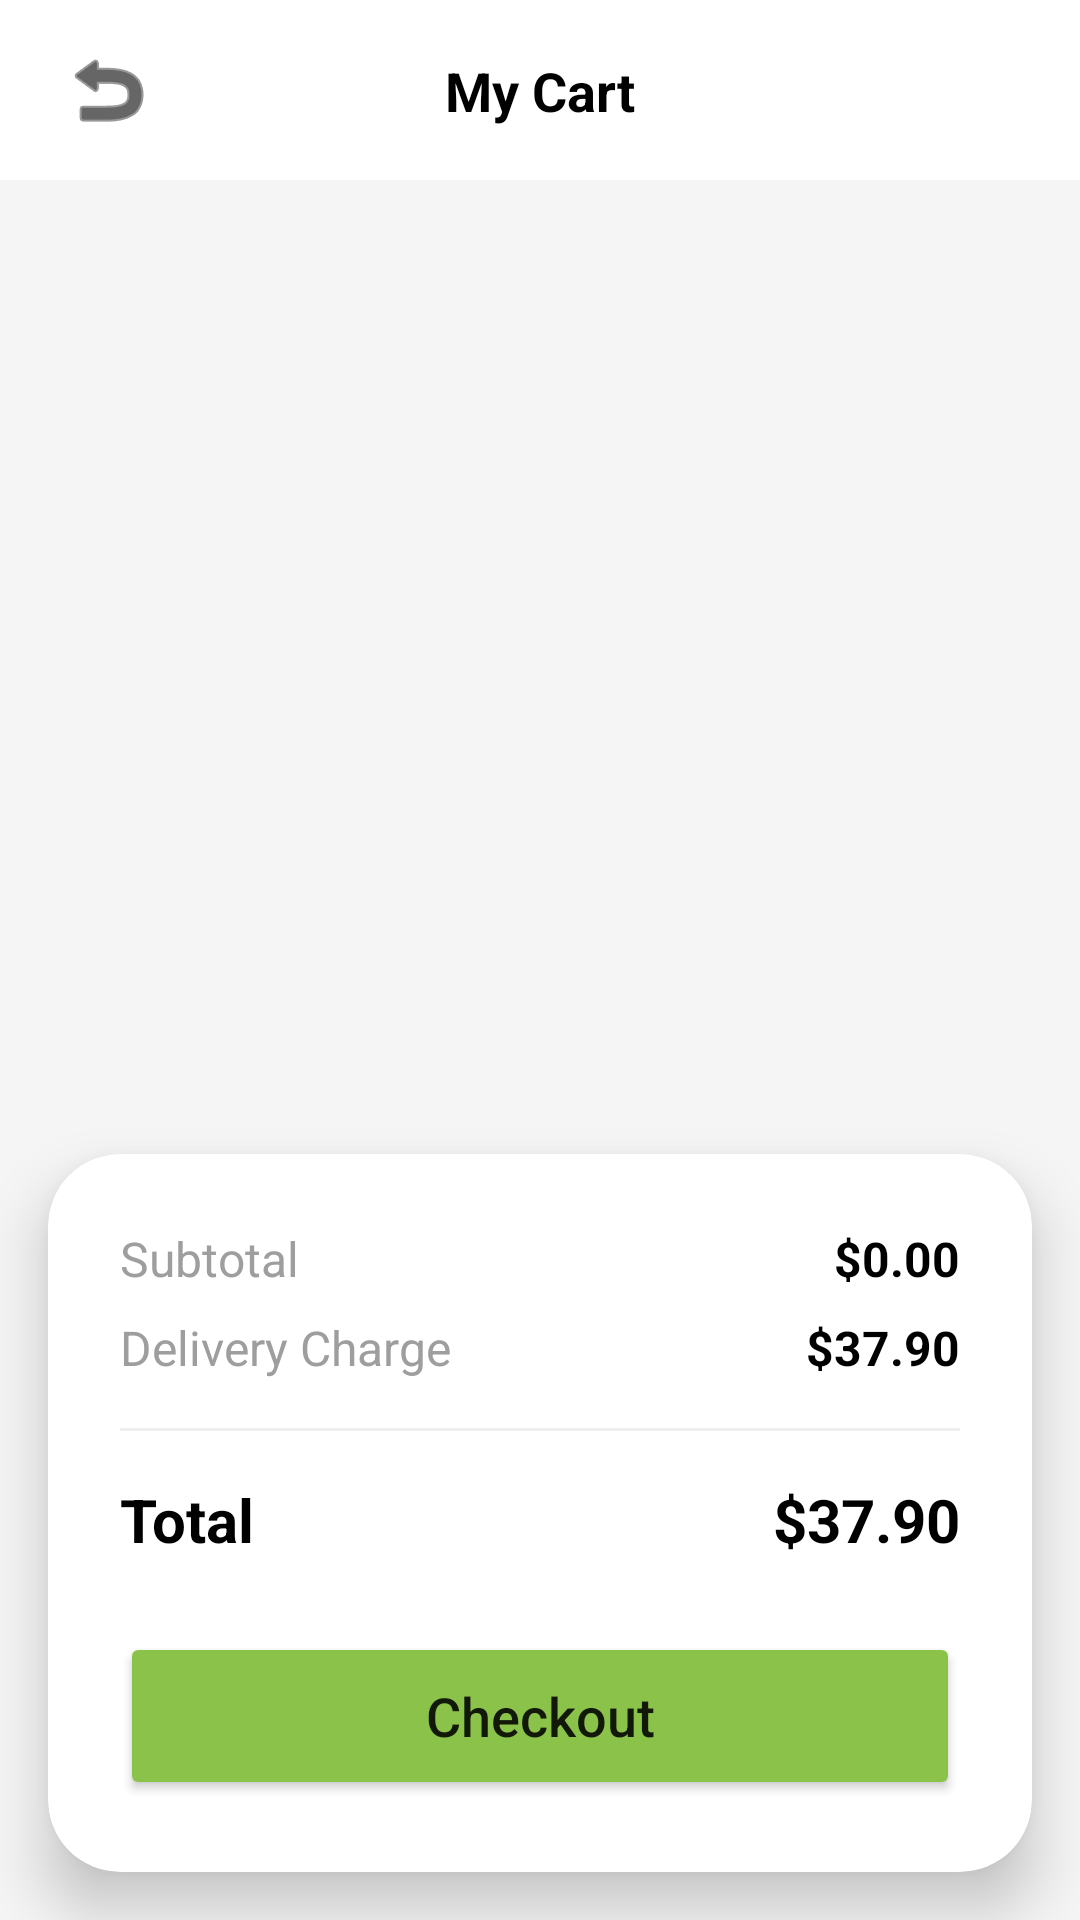

Icons on this 1080w x 1920h Android screen, each with the point to tap as (x,y):
revert: (109,90)
